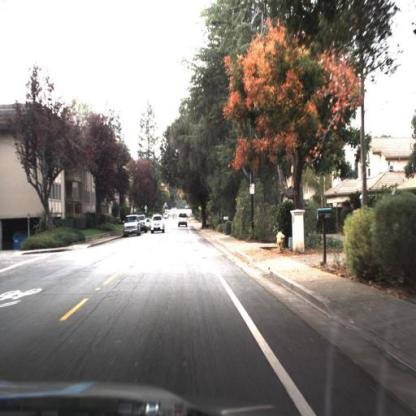car: (150, 212, 167, 235), (125, 215, 141, 238), (178, 212, 191, 230)
